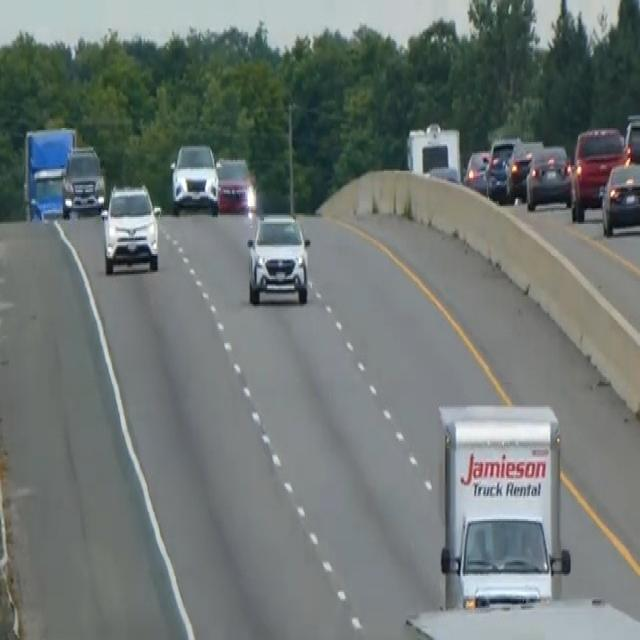car: (100, 180, 161, 274), (569, 122, 627, 220), (169, 141, 219, 215), (61, 144, 106, 217), (525, 142, 572, 210), (600, 158, 639, 236), (506, 137, 543, 201), (215, 153, 252, 213), (485, 135, 518, 201), (463, 148, 490, 194), (623, 112, 639, 165)
jeep: (244, 206, 312, 308)
lorry: (29, 166, 66, 220)
truck: (436, 400, 570, 610)
